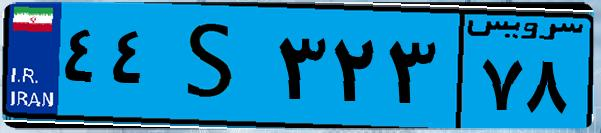2: (330, 28, 385, 110)
3: (270, 28, 330, 110), (385, 28, 445, 110)
4: (57, 26, 110, 100), (110, 28, 158, 98)
7: (475, 38, 525, 113)
8: (525, 38, 570, 115)
S: (158, 12, 270, 120)
